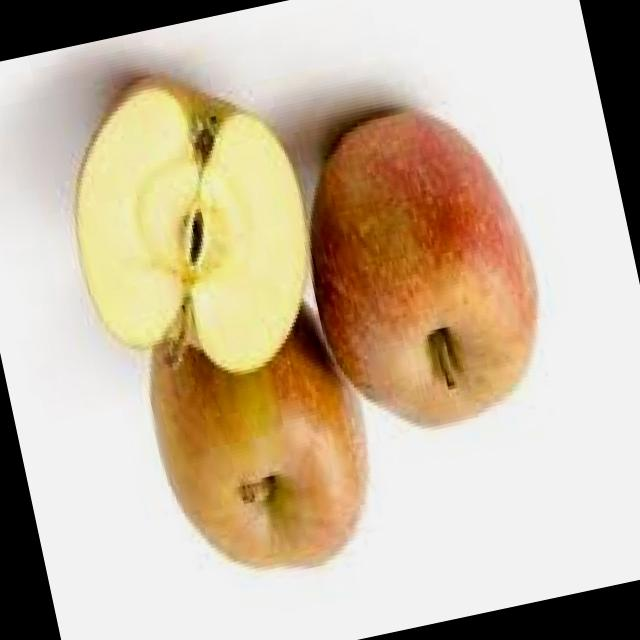Red Apple: (284, 92, 561, 448), (137, 300, 394, 594)
Used Apple: (48, 48, 336, 396)
